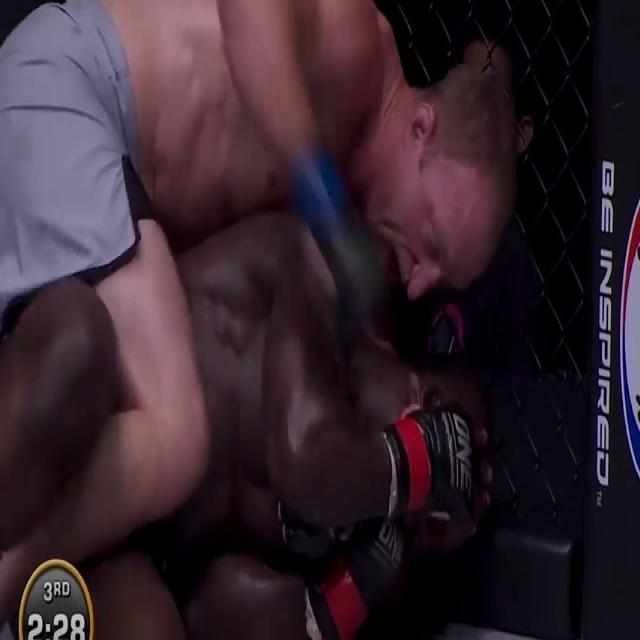fight: (1, 0, 534, 639)
